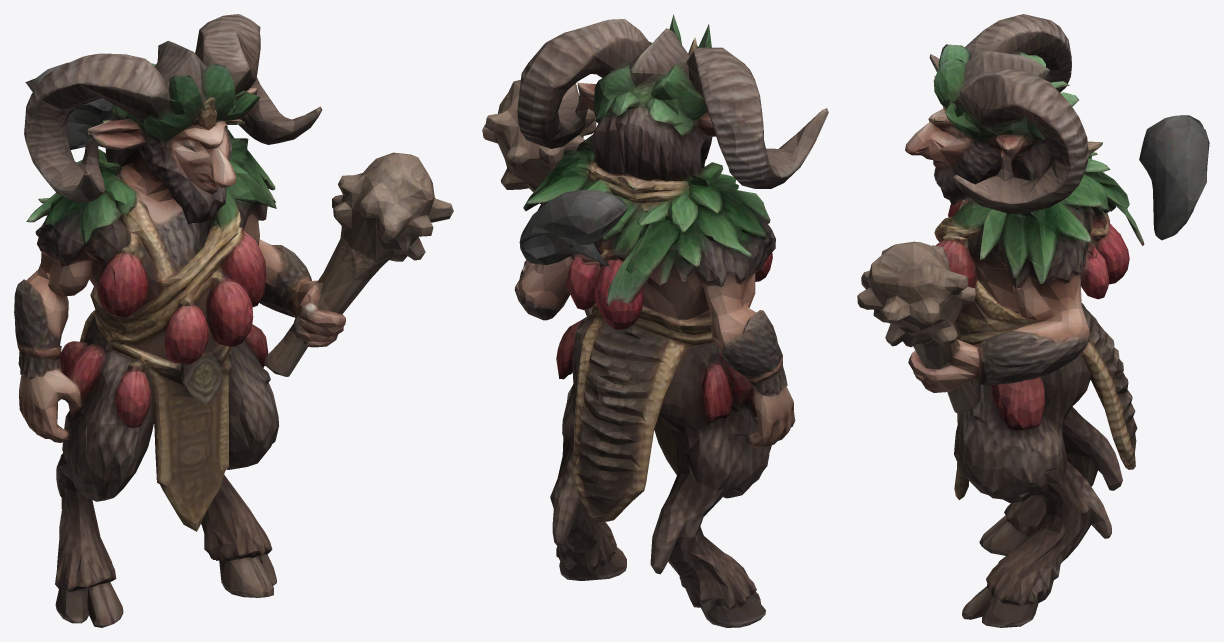
File: orchardSatyr.glb
3 renders of one model, left to right at view 1: azimuth 30°, elevation 25°; view 2: azimuth 150°, elevation 25°; view 3: azimuth 270°, elevation 25°, orthographic. The views are drawn at different scales.
Visible parts, largest first — view 1: world; view 2: world; view 3: world.
Boxes of the visible parts, bbox=[...] form: world: bbox=[14, 14, 453, 627]; world: bbox=[482, 14, 828, 627]; world: bbox=[857, 14, 1209, 627].
Size of the model in its own units: 0.6713 by 0.9997 by 0.5957.
Materials: 1 (1 with a texture image).
